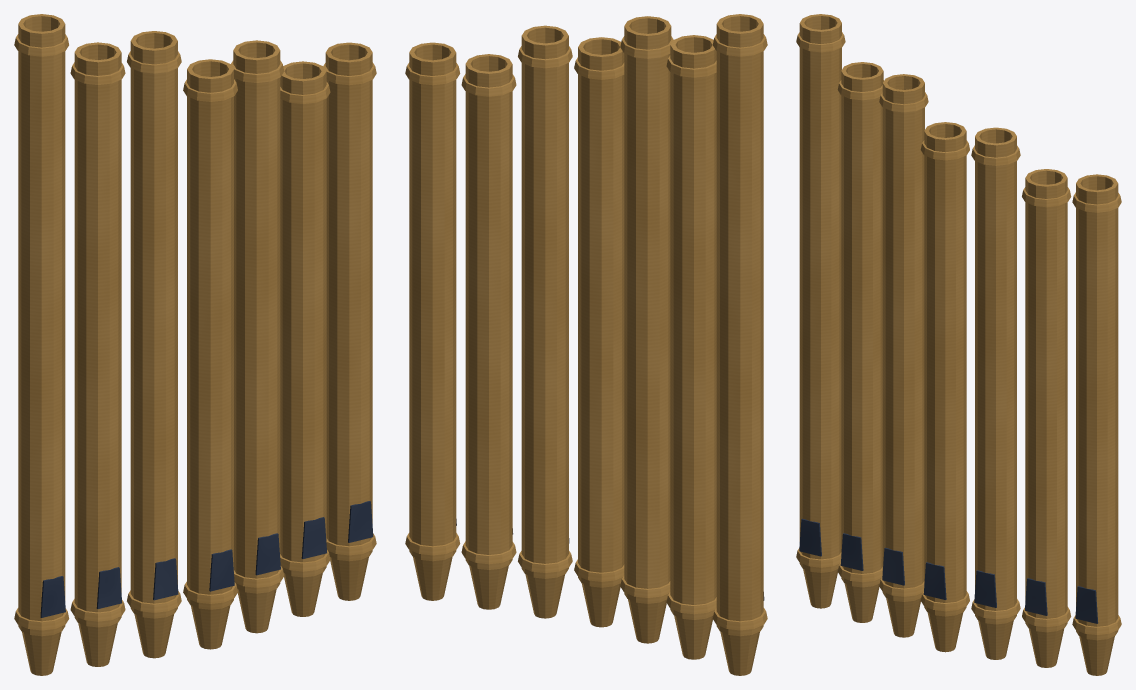
Rendered from SM_Theater_Organ_PipesSide.fbx.
The picture shows the model from 3 angles, left to right: view 1: azimuth 30°, elevation 25°; view 2: azimuth 150°, elevation 25°; view 3: azimuth 330°, elevation 25°; orthographic projection. The views are drawn at different scales.
Visible parts, largest first — view 1: SM_Theater_Organ_PipesSide_LOD0; view 2: SM_Theater_Organ_PipesSide_LOD0; view 3: SM_Theater_Organ_PipesSide_LOD0.
Part boxes in pixels (left/top/right/bottom): SM_Theater_Organ_PipesSide_LOD0: left=14, top=14, right=376, bottom=675; SM_Theater_Organ_PipesSide_LOD0: left=405, top=14, right=767, bottom=675; SM_Theater_Organ_PipesSide_LOD0: left=796, top=14, right=1121, bottom=675.
Size of what is drawn, in the model's own units: 2.98 by 5.19 by 0.6193.
